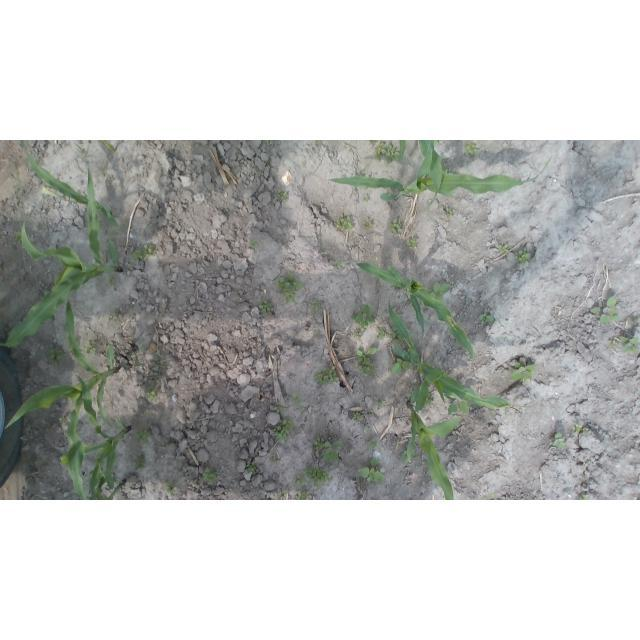Maize: (1, 165, 123, 347), (6, 298, 119, 429), (388, 300, 509, 411), (330, 142, 553, 202), (356, 261, 476, 358), (61, 374, 132, 500), (20, 140, 121, 226), (402, 400, 462, 500), (417, 140, 443, 214), (87, 470, 125, 500), (398, 141, 407, 164)
Weeds: (277, 273, 304, 304), (592, 296, 619, 325), (359, 458, 386, 483), (314, 439, 343, 462), (304, 462, 330, 486), (352, 305, 376, 329), (509, 362, 535, 383), (375, 144, 399, 165), (273, 418, 294, 441), (314, 367, 339, 386), (431, 282, 452, 302), (445, 399, 469, 416), (356, 348, 376, 365), (620, 336, 640, 353), (334, 215, 354, 232), (392, 359, 413, 373), (203, 467, 219, 485), (478, 308, 494, 326), (550, 433, 567, 449), (290, 392, 304, 410), (389, 218, 404, 234), (516, 248, 530, 265), (464, 141, 479, 155), (259, 299, 273, 314), (391, 327, 403, 344), (573, 424, 590, 436), (135, 429, 149, 443), (50, 348, 62, 364), (376, 325, 389, 339), (144, 244, 157, 258), (164, 479, 176, 494), (402, 450, 417, 462), (362, 364, 376, 376), (374, 396, 386, 410), (246, 461, 258, 474), (136, 454, 147, 468), (82, 343, 96, 354), (294, 474, 305, 488), (309, 299, 321, 311), (145, 391, 158, 402), (275, 191, 288, 202), (297, 490, 311, 500), (443, 206, 454, 218), (134, 249, 146, 260), (407, 238, 418, 249), (274, 402, 284, 414), (363, 218, 373, 229), (250, 239, 260, 250), (107, 313, 117, 324), (108, 229, 121, 237), (368, 439, 378, 449), (500, 243, 509, 254), (426, 396, 435, 407), (352, 412, 362, 421), (107, 275, 116, 285), (353, 329, 361, 340), (278, 490, 286, 500), (486, 492, 495, 500), (14, 231, 22, 240), (610, 340, 619, 348), (334, 261, 342, 269), (579, 494, 589, 500), (58, 417, 66, 424), (630, 317, 639, 323), (363, 194, 369, 202), (356, 186, 368, 190), (270, 456, 276, 463), (451, 170, 457, 175), (372, 140, 377, 144), (442, 166, 446, 171), (317, 140, 321, 144), (354, 175, 359, 178), (266, 140, 269, 144)
